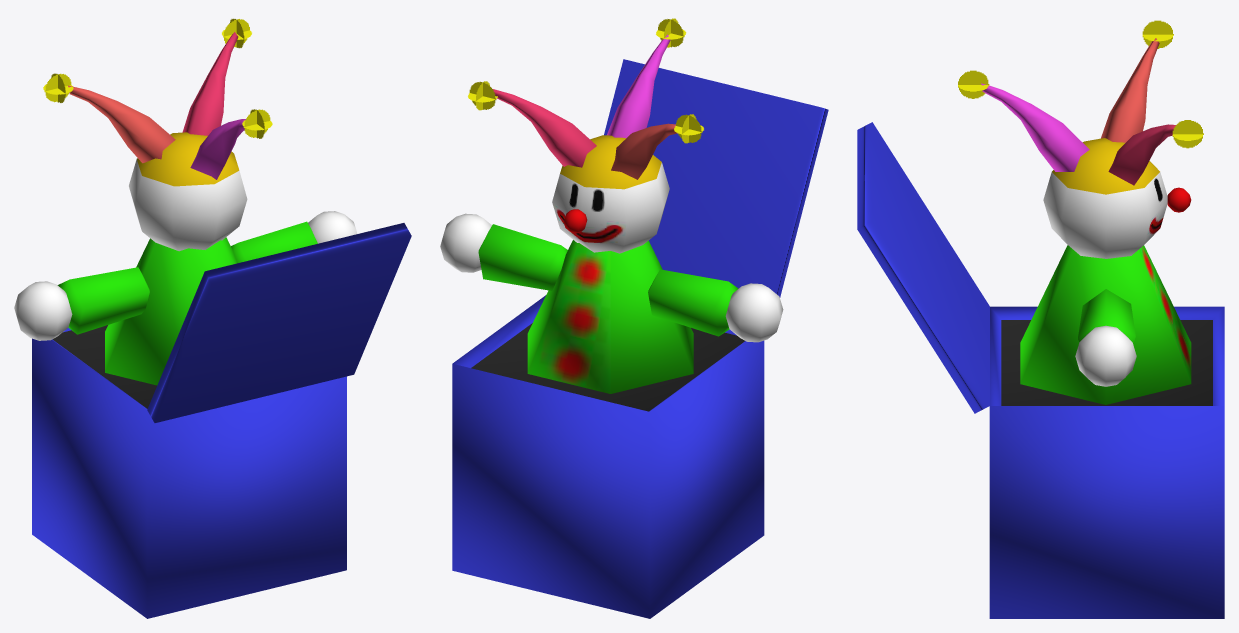
The model's file is Jack N Box.fbx.
3 views of the same model, side by side, from view 1: azimuth 30°, elevation 25°; view 2: azimuth 150°, elevation 25°; view 3: azimuth 270°, elevation 25° (orthographic). The views are drawn at different scales.
Visible parts, largest first — view 1: Box, Box.001, Sphere, Cylinder, Sphere.002, Jester hat.002, Sphere.004, Jester hat, Sphere.001, Jester hat.001, Sphere.003, Jingle Ball.003 (+2 smaller); view 2: Box, Box.001, Cylinder, Sphere, Sphere.001, Sphere.002, Jester hat, Sphere.004, Jester hat.001, Sphere.003, Jester hat.002, Jingle Ball.002 (+2 smaller); view 3: Box, Box.001, Cylinder, Sphere, Jester hat.001, Sphere.003, Jester hat.002, Jester hat, Sphere.001, Jingle Ball.001, Jingle Ball.003, Jingle Ball.002.
Boxes of the visible parts, <box> form: Box: <box>32,325,346,618</box>; Box.001: <box>147,223,411,422</box>; Sphere: <box>129,132,247,251</box>; Cylinder: <box>105,237,236,385</box>; Sphere.002: <box>57,267,149,334</box>; Jester hat.002: <box>68,85,175,163</box>; Sphere.004: <box>14,281,72,340</box>; Jester hat: <box>182,32,238,135</box>; Sphere.001: <box>231,221,317,263</box>; Jester hat.001: <box>190,119,246,179</box>; Sphere.003: <box>308,211,357,243</box>; Jingle Ball.003: <box>242,109,272,138</box>; Box: <box>452,295,764,618</box>; Box.001: <box>604,59,828,297</box>; Cylinder: <box>527,240,693,393</box>; Sphere: <box>552,135,669,253</box>; Sphere.001: <box>478,224,567,290</box>; Sphere.002: <box>648,269,738,336</box>; Jester hat: <box>493,89,596,167</box>; Sphere.004: <box>725,283,783,342</box>; Jester hat.001: <box>607,34,670,138</box>; Sphere.003: <box>440,213,491,272</box>; Jester hat.002: <box>611,123,677,179</box>; Jingle Ball.002: <box>674,114,703,143</box>; Box: <box>989,306,1224,618</box>; Box.001: <box>857,122,989,413</box>; Cylinder: <box>1020,245,1191,404</box>; Sphere: <box>1043,138,1167,258</box>; Jester hat.001: <box>981,83,1089,171</box>; Sphere.003: <box>1075,325,1136,386</box>; Jester hat.002: <box>1101,38,1159,142</box>; Jester hat: <box>1108,124,1176,185</box>; Sphere.001: <box>1078,289,1135,343</box>; Jingle Ball.001: <box>1172,120,1203,148</box>; Jingle Ball.003: <box>958,70,989,98</box>; Jingle Ball.002: <box>1142,20,1173,48</box>.
Size of the model in its own units: 256 by 352 by 235.
